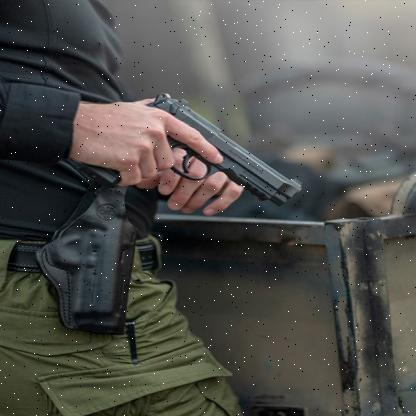gun: (127, 86, 308, 209)
